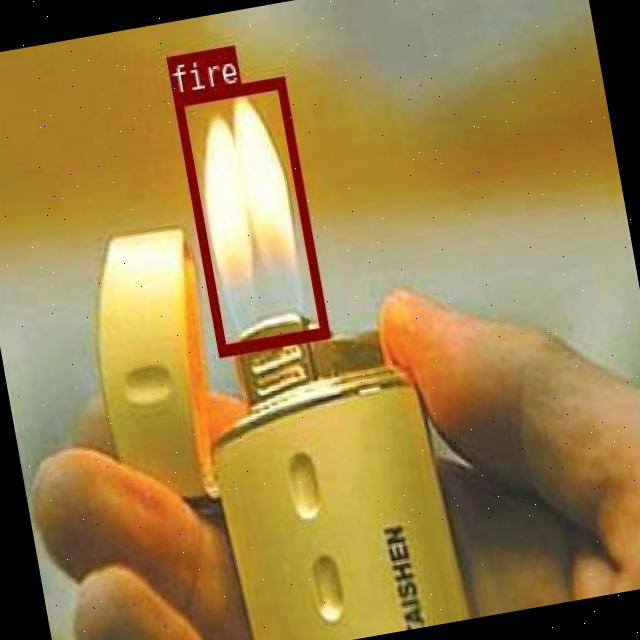fire: (172, 75, 326, 355)
